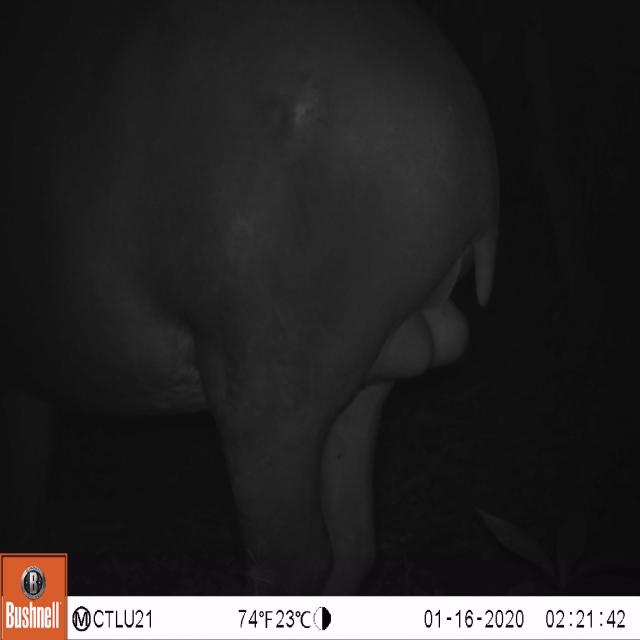Lowland Tapir: (3, 4, 498, 594)
